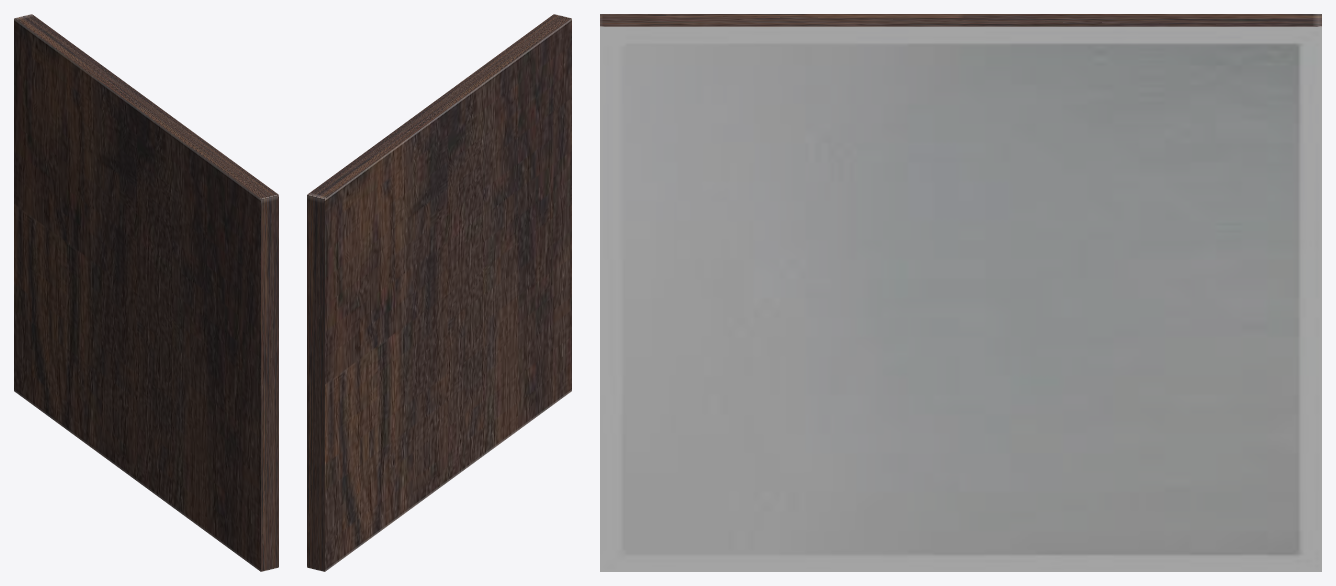
File: ArtFrame120x100cm001.FBX
3 renders of one model, left to right at view 1: azimuth 30°, elevation 25°; view 2: azimuth 150°, elevation 25°; view 3: azimuth 270°, elevation 25°, orthographic. The views are drawn at different scales.
Visible parts, largest first — view 1: ArtFrame120x100cm001; view 2: ArtFrame120x100cm001; view 3: ArtFrame120x100cm001.
Boxes of the visible parts, bbox=[...] form: ArtFrame120x100cm001: bbox=[14, 14, 278, 571]; ArtFrame120x100cm001: bbox=[307, 14, 571, 571]; ArtFrame120x100cm001: bbox=[600, 14, 1321, 571].
Size of the model in its own units: 5 by 100 by 120.
